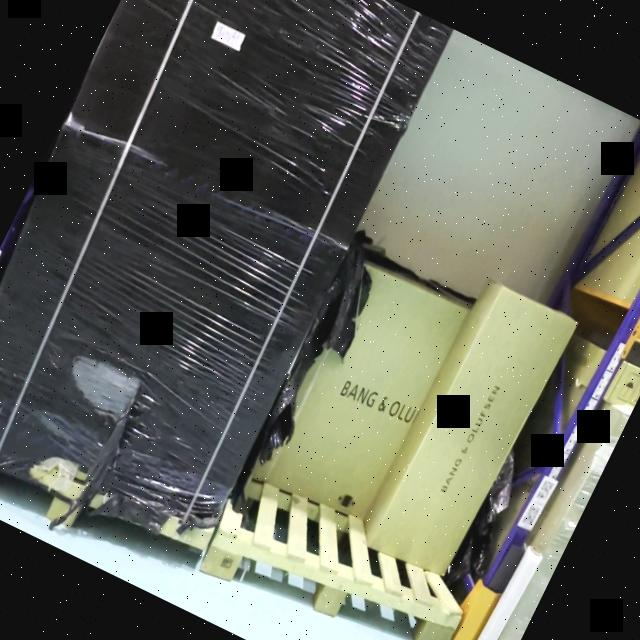box: (0, 136, 352, 528), (366, 287, 580, 575)
